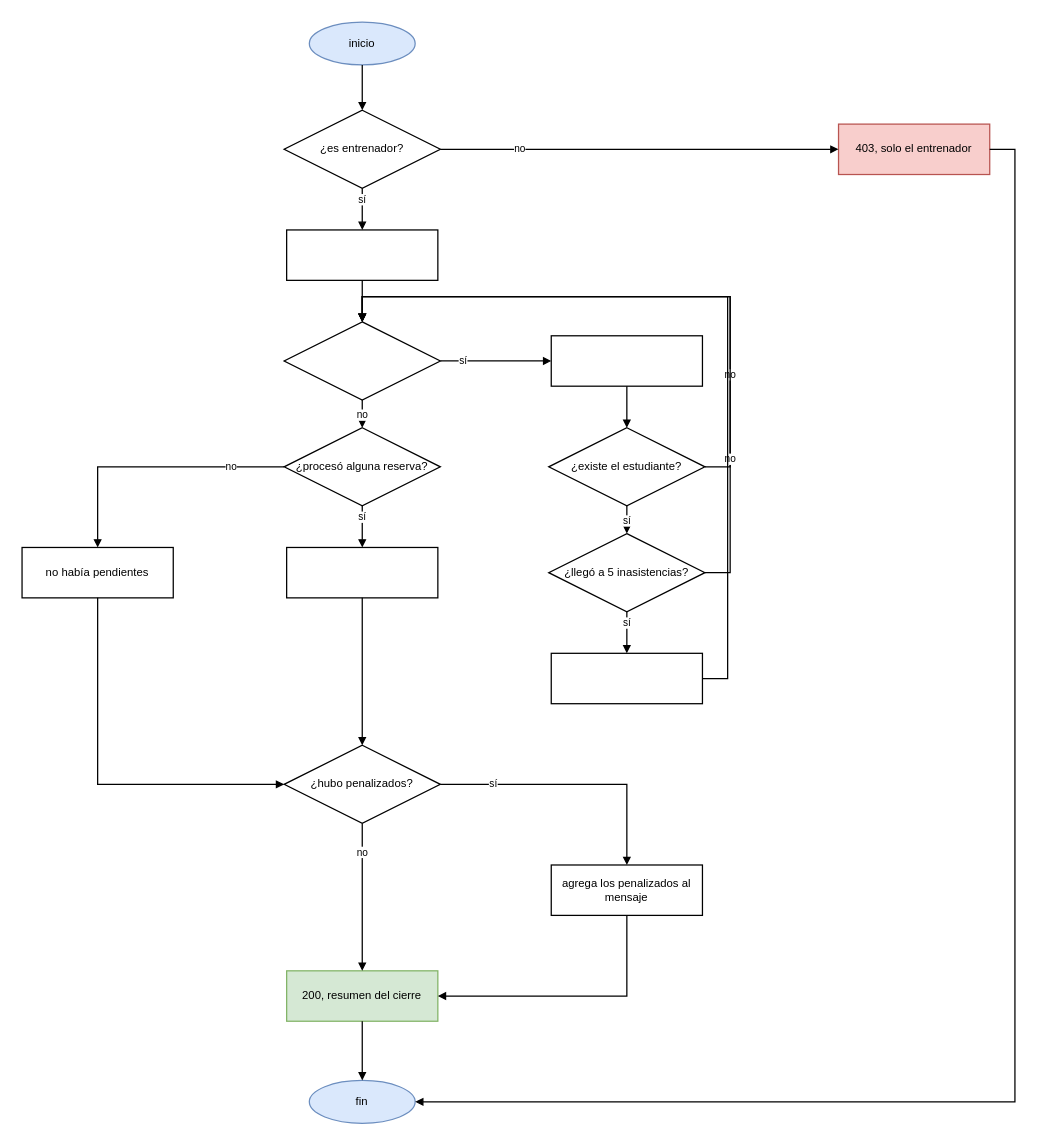
Image size: 1045x1145. Some labels were removed from this diagram. The shapes that lost their labels are listed below. From the top down, each one's centre as x and y in pixels, then its label:
(361,254): toma la fecha de la jornada
(361,360): ¿queda una reserva activa?
(626,360): la marca NO_SHOW y suma una inasistencia
(361,572): se procesaron N inasistencias
(626,678): penaliza la cuenta 5 días hábiles
